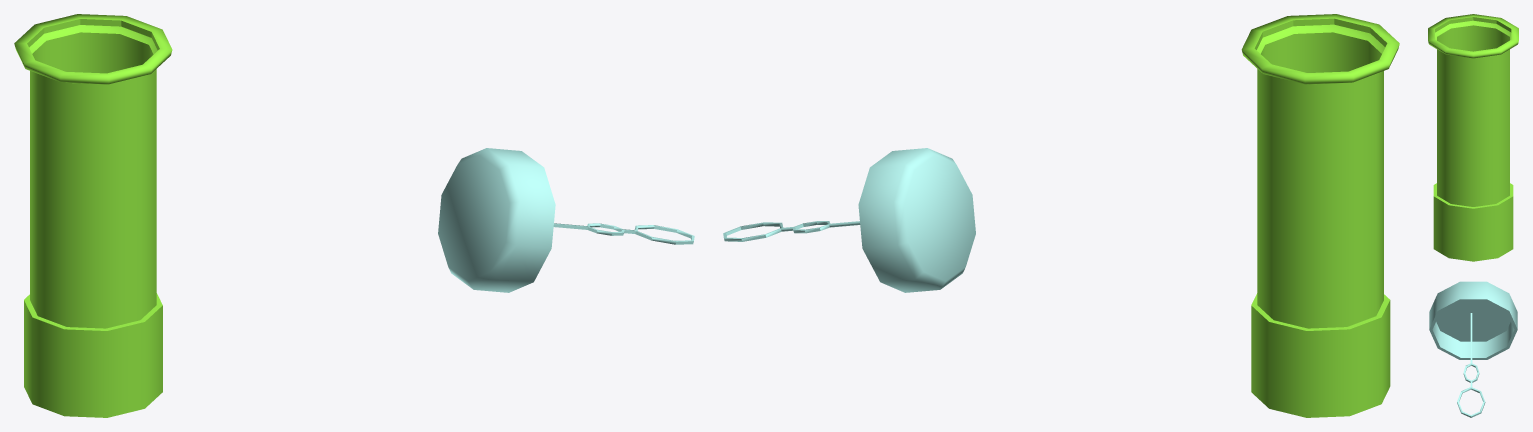
Rendered from Pegador.FBX.
3 renders of one model, left to right at view 1: azimuth 30°, elevation 25°; view 2: azimuth 150°, elevation 25°; view 3: azimuth 270°, elevation 25°, orthographic. The views are drawn at different scales.
Parts seen in each view (by area): view 1: pega_bolhas, pegador; view 2: pega_bolhas, pegador; view 3: pega_bolhas, pegador.
Part boxes in pixels (bbox=[...]): pega_bolhas: bbox=[14, 14, 172, 417]; pegador: bbox=[438, 148, 694, 292]; pega_bolhas: bbox=[1241, 14, 1399, 417]; pegador: bbox=[723, 148, 975, 292]; pega_bolhas: bbox=[1428, 14, 1518, 261]; pegador: bbox=[1429, 281, 1517, 417].
Bounding box in the file's own units: 1.67 × 0.3216 × 0.818.
